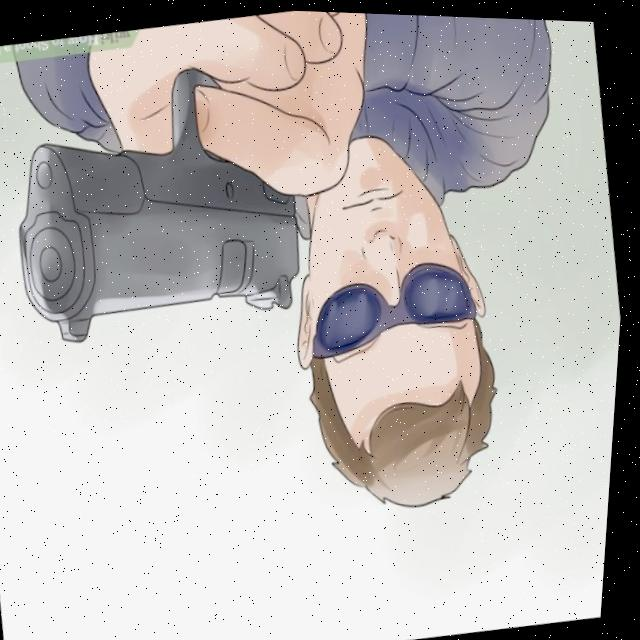pistol: (0, 43, 325, 365)
